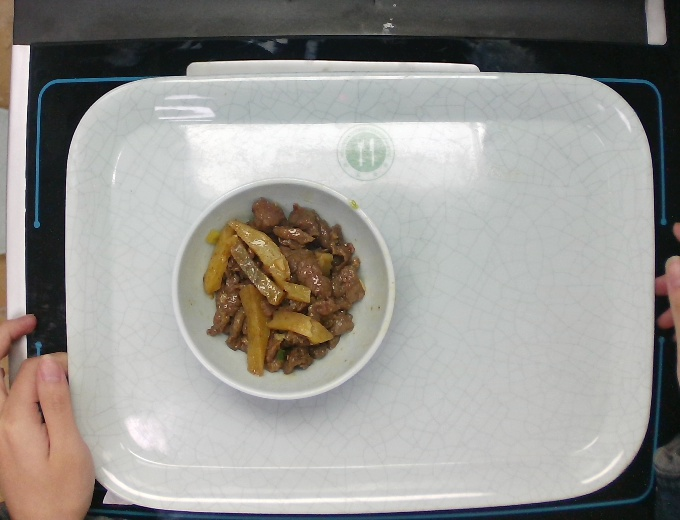JYsf-Fan_Wan: (168, 175, 398, 403)
